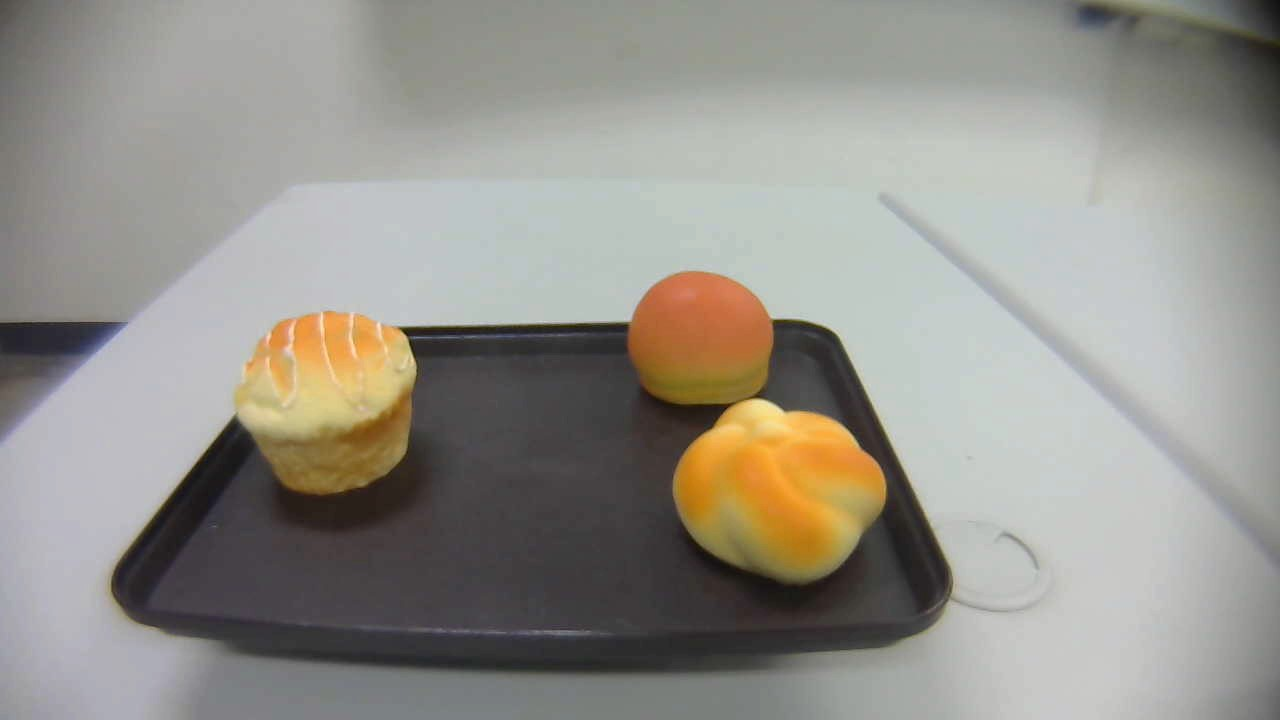bun: (627, 272, 774, 404)
cupcake: (233, 308, 418, 495)
twist bread: (673, 399, 887, 586)
